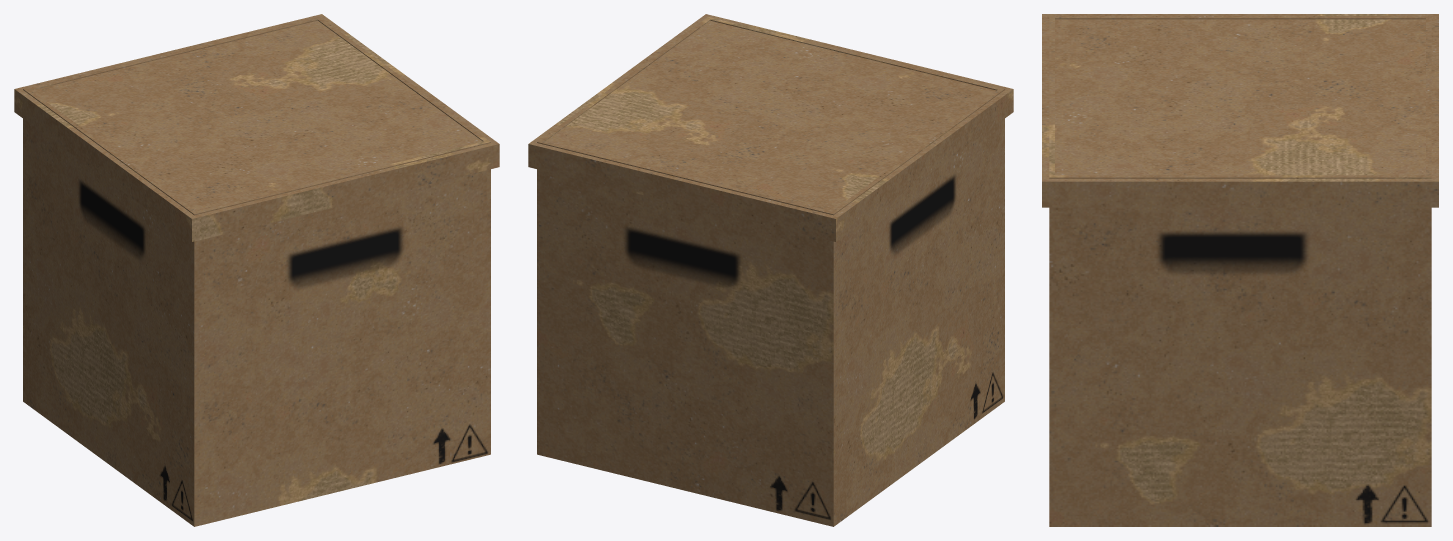
3 renders of one model, left to right at view 1: azimuth 30°, elevation 25°; view 2: azimuth 150°, elevation 25°; view 3: azimuth 270°, elevation 25°, orthographic. The views are drawn at different scales.
Visible parts, largest first — view 1: box; view 2: box; view 3: box.
Part boxes in pixels (x1,y1,x2,y2): box: [14, 14, 499, 526]; box: [528, 14, 1013, 526]; box: [1042, 14, 1438, 526].
Bounding box in the file's own units: 139 × 135 × 139.
Materials: 1 (1 with a texture image).
